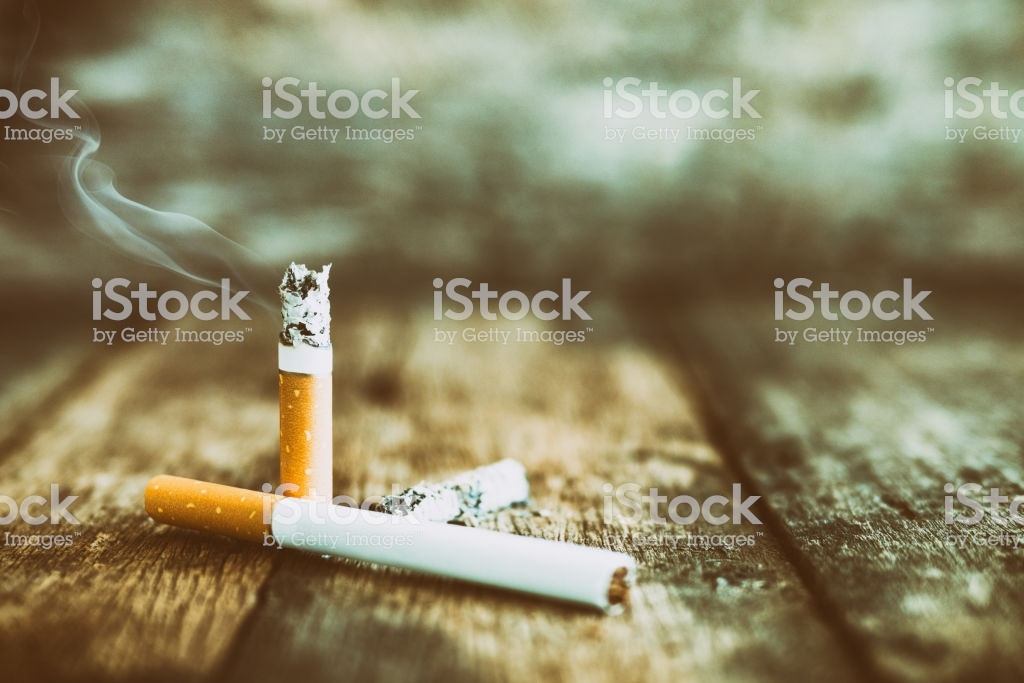sigaretta: (155, 471, 642, 611), (277, 262, 326, 505)
